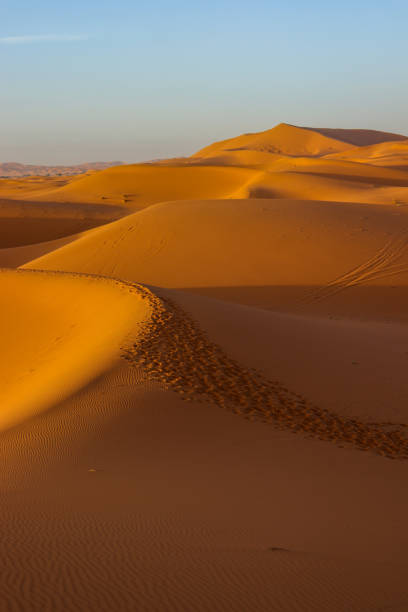animal_foot_print: (122, 282, 407, 459)
